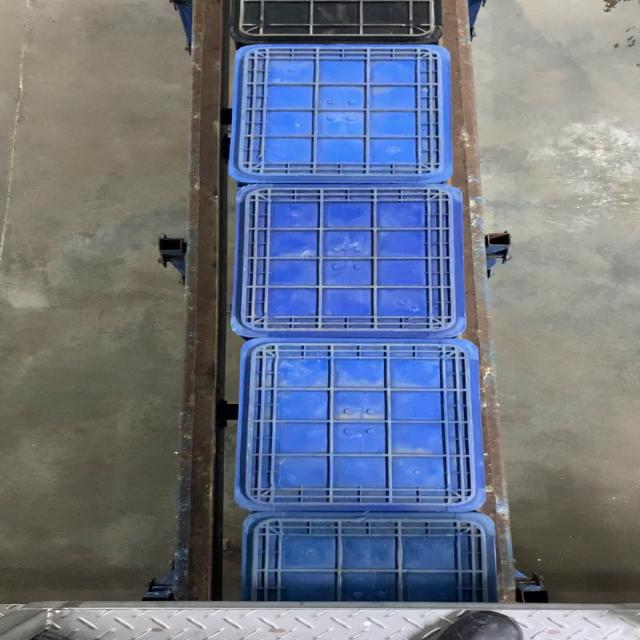Box: (235, 339, 487, 512), (228, 185, 470, 338), (224, 40, 455, 184)
